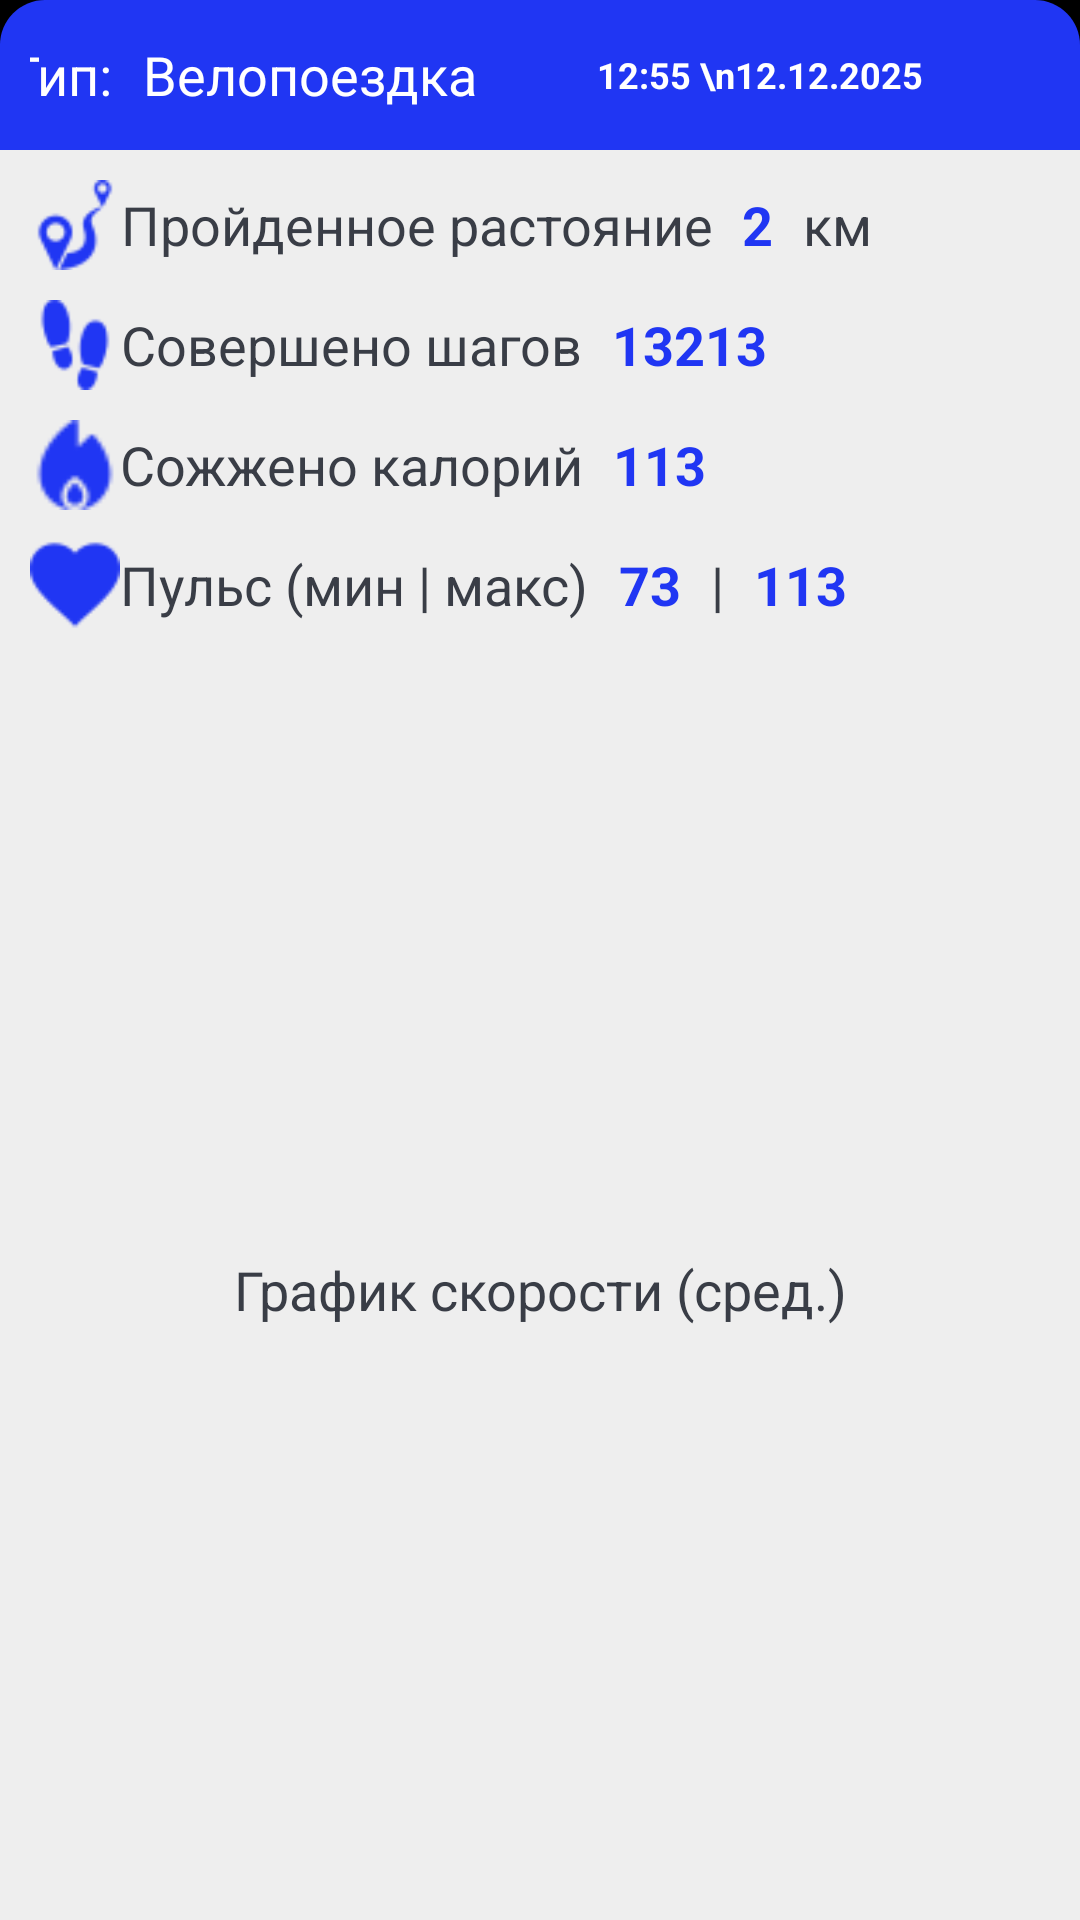

Screen size 1080px×1920px. Icon name, then its center in pixels as [x,y]:
calories: [75,465]
distance: [75,225]
heart: [75,584]
steps: [75,345]
